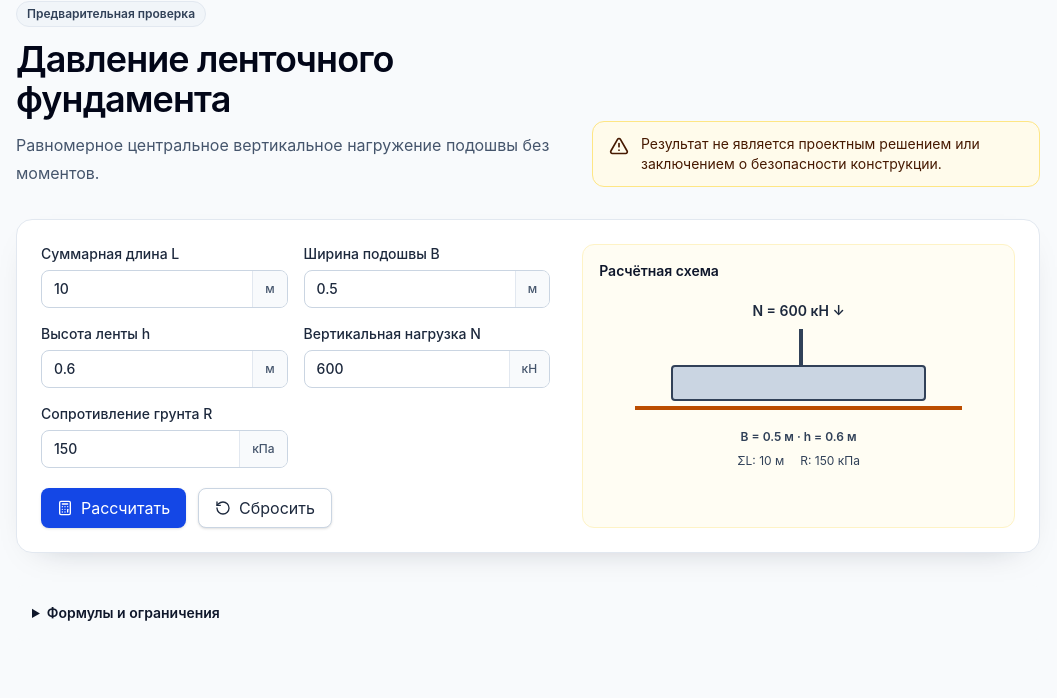
Scenario: CalculatorsWorkspace › показывает ошибку валидации и сбрасывает форму фундамента
Expected: the element named "Расчётная схема ленточного фундамента" shows "N = 600 кН", [582,244,1015,528]
Clear the number field labelled "Суммарная длина L" at (147,289), box [42,271,252,307]
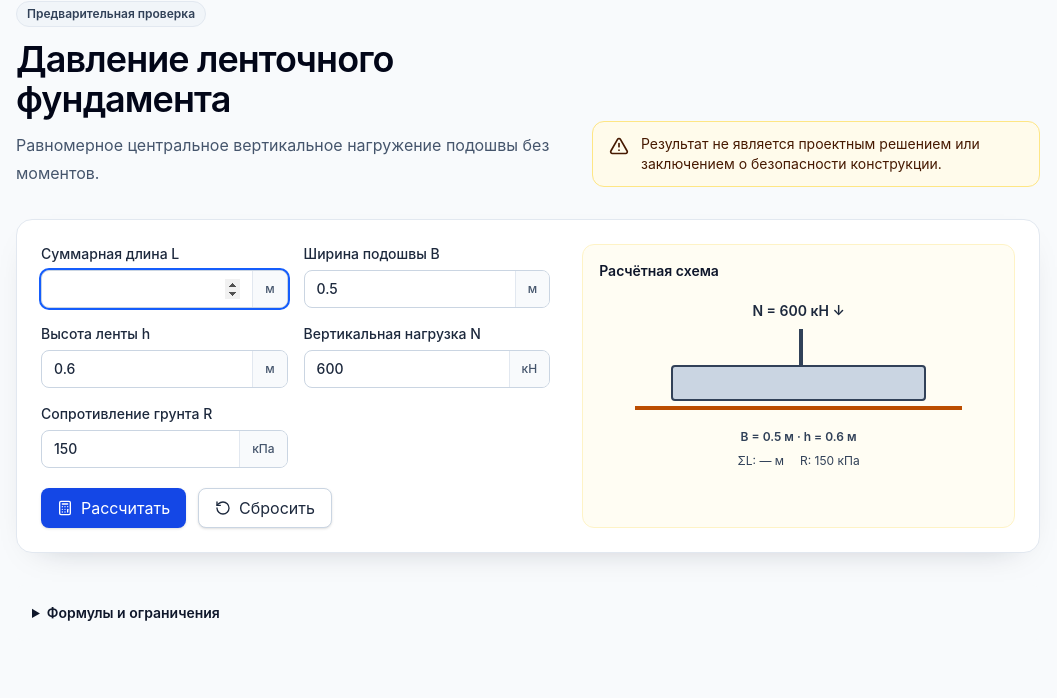
Click the button "Рассчитать" at (114,508), box [41,488,186,528]
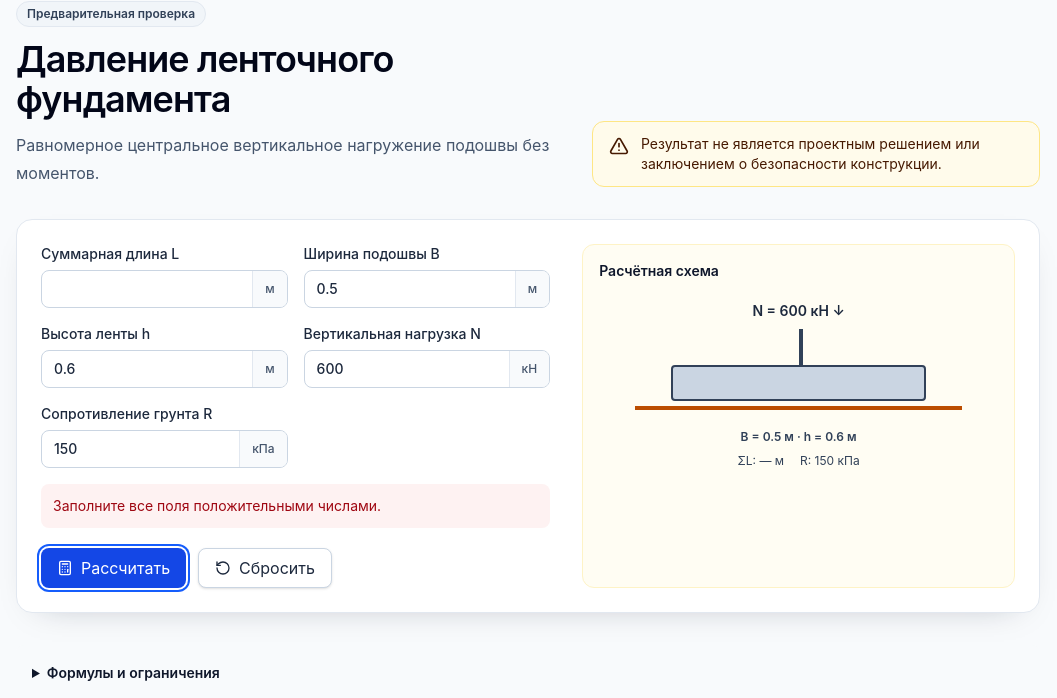
Expected: the message reads "Заполните все поля положительными числами.", [53,497,381,514]
Click the button "Сбросить" at (265,568), box [198,548,332,588]
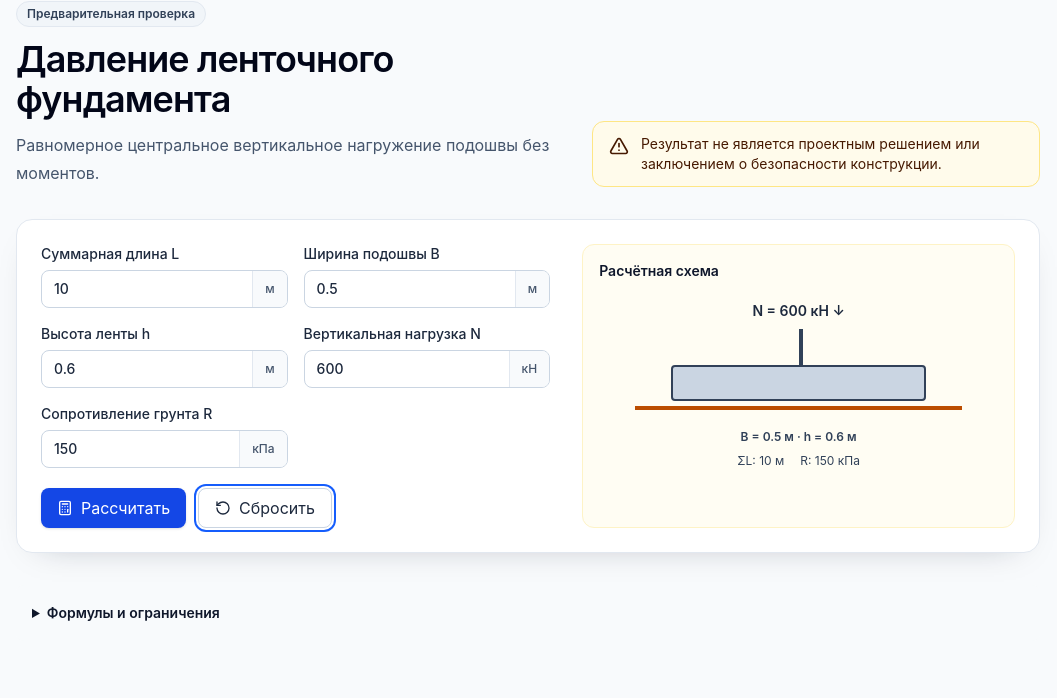
Expected: the number field labelled "Суммарная длина L" holds "10", [42,271,252,307]
Expected: the message "Заполните все поля положительными числами." is gone
